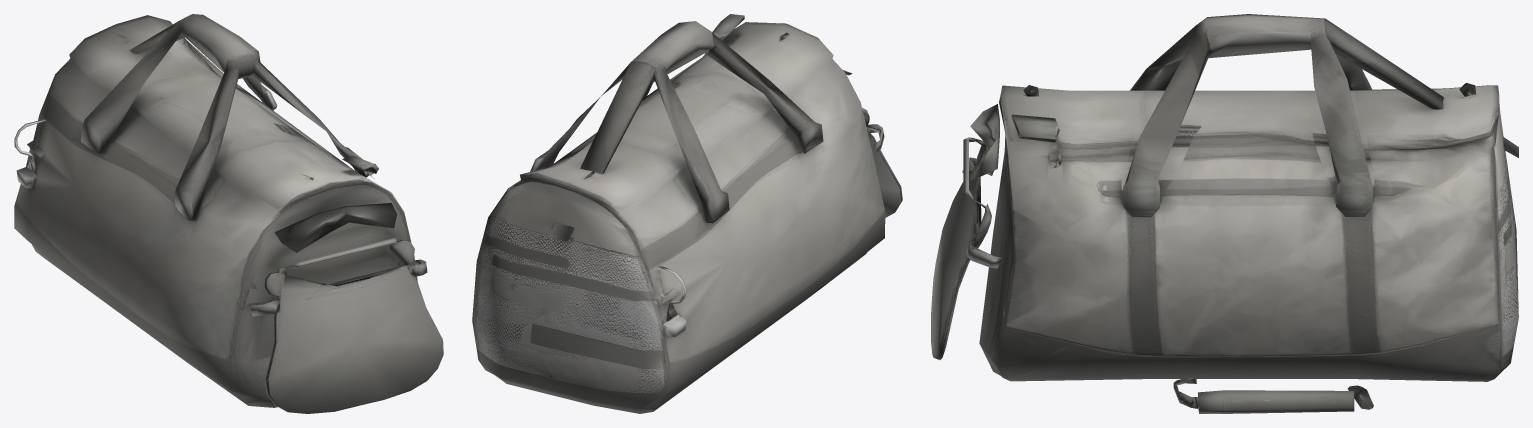
Rendered from duffel.glb.
3 renders of one model, left to right at view 1: azimuth 30°, elevation 25°; view 2: azimuth 150°, elevation 25°; view 3: azimuth 270°, elevation 25°, orthographic. The views are drawn at different scales.
Visible parts, largest first — view 1: tripo_node_ba0d02e3-2d37-4ffc-a2ad-9422e6a62239; view 2: tripo_node_ba0d02e3-2d37-4ffc-a2ad-9422e6a62239; view 3: tripo_node_ba0d02e3-2d37-4ffc-a2ad-9422e6a62239.
Part boxes in pixels (box(x1,y1,x2,y2)): tripo_node_ba0d02e3-2d37-4ffc-a2ad-9422e6a62239: box(14, 14, 443, 413); tripo_node_ba0d02e3-2d37-4ffc-a2ad-9422e6a62239: box(472, 14, 902, 413); tripo_node_ba0d02e3-2d37-4ffc-a2ad-9422e6a62239: box(931, 14, 1518, 413).
Bounding box in the file's own units: 0.5957 × 0.6035 × 0.998.
Materials: 1 (1 with a texture image).
